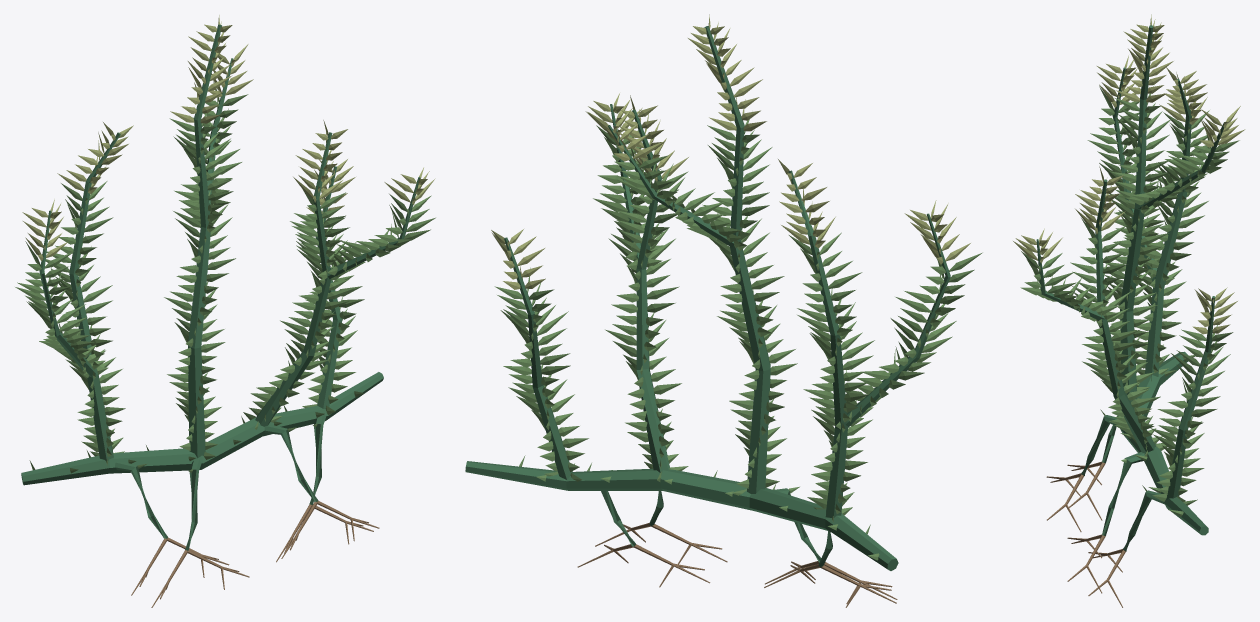
File: asteroxylon.glb
3 views of the same model, side by side, from view 1: azimuth 30°, elevation 25°; view 2: azimuth 150°, elevation 25°; view 3: azimuth 270°, elevation 25° (orthographic). The views are drawn at different scales.
Visible parts, largest first — view 1: individual-simple-enations, connected-leafy-axes, descending-root-bearing-axes, branching-rooting-axes; view 2: individual-simple-enations, connected-leafy-axes, branching-rooting-axes, descending-root-bearing-axes; view 3: individual-simple-enations, connected-leafy-axes, descending-root-bearing-axes, branching-rooting-axes.
Boxes of the visible parts, left/top/right/bottom form: individual-simple-enations: left=15, top=15, right=435, bottom=473; connected-leafy-axes: left=21, top=24, right=420, bottom=485; descending-root-bearing-axes: left=115, top=413, right=325, bottom=550; branching-rooting-axes: left=131, top=501, right=379, bottom=607; individual-simple-enations: left=491, top=14, right=982, bottom=560; connected-leafy-axes: left=465, top=26, right=950, bottom=570; branching-rooting-axes: left=577, top=523, right=897, bottom=607; descending-root-bearing-axes: left=601, top=488, right=832, bottom=567; individual-simple-enations: left=1013, top=14, right=1245, bottom=516; connected-leafy-axes: left=1036, top=25, right=1224, bottom=535; descending-root-bearing-axes: left=1081, top=415, right=1164, bottom=551; branching-rooting-axes: left=1046, top=461, right=1125, bottom=607.
Size of the model in its own units: 0.2429 by 0.3 by 0.1215.
